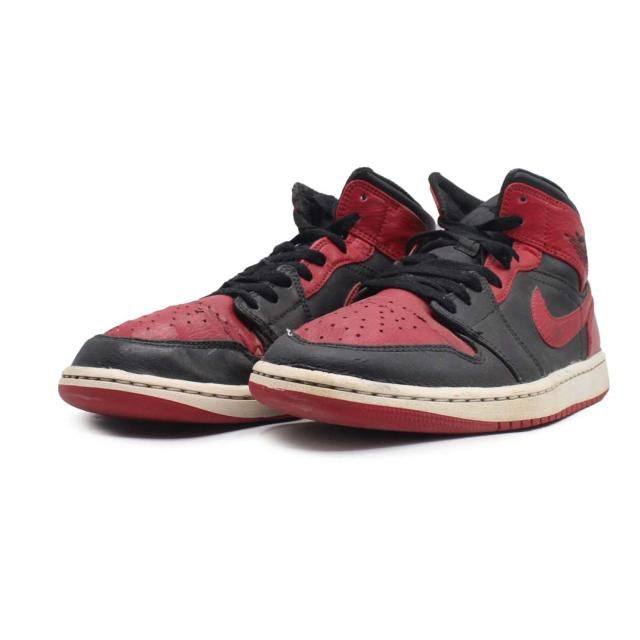midsole: (251, 353, 609, 439), (58, 364, 284, 426)
uppersole: (267, 165, 592, 388), (70, 180, 370, 383)
